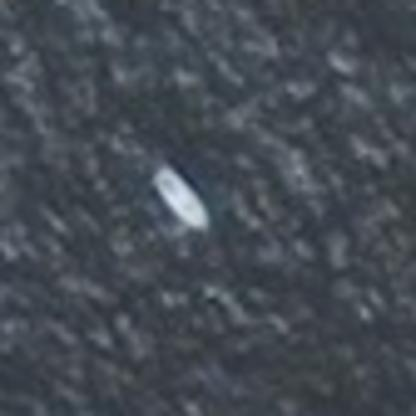ship: (145, 158, 218, 238)
